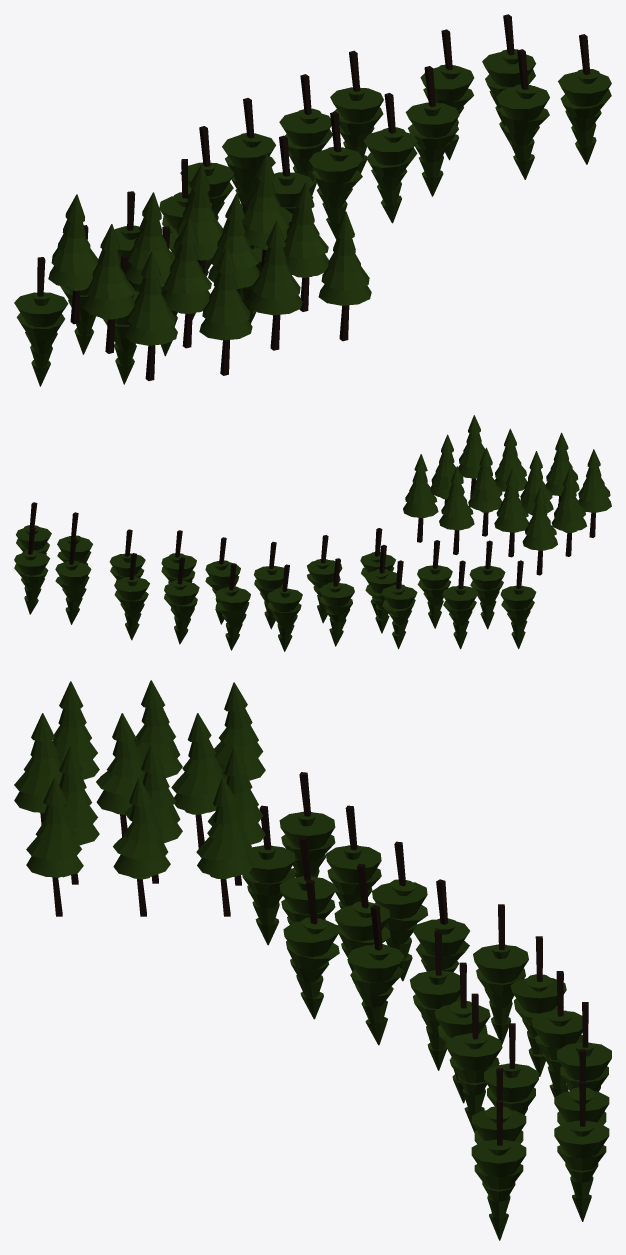
The model's file is Arboles.FBX.
3 renders of one model, top to bottom at view 1: azimuth 30°, elevation 25°; view 2: azimuth 150°, elevation 25°; view 3: azimuth 270°, elevation 25°, orthographic. The views are drawn at different scales.
Visible parts, largest first — view 1: Cylinder757, Cylinder758, Cylinder763, Cylinder759, Cylinder776, Cylinder777, Cylinder774, Cylinder750, Cylinder753, Cylinder764, Cylinder775, Cylinder773 (+17 smaller); view 2: Cylinder760, Cylinder761, Cylinder766, Cylinder754, Cylinder762, Cylinder755, Cylinder756, Cylinder778, Cylinder780, Cylinder767, Cylinder779, Cylinder768 (+21 smaller); view 3: Cylinder770, Cylinder749, Cylinder748, Cylinder750, Cylinder769, Cylinder754, Cylinder757, Cylinder779, Cylinder762, Cylinder772, Cylinder763, Cylinder767 (+21 smaller).
Boxes of the visible parts, x1,y1,x2,y2 form: Cylinder757: (558, 34, 611, 164); Cylinder758: (496, 49, 549, 179); Cylinder763: (363, 93, 417, 223); Cylinder759: (405, 66, 459, 196); Cylinder776: (83, 224, 134, 353); Cylinder777: (124, 251, 177, 380); Cylinder774: (199, 246, 252, 375); Cylinder750: (318, 211, 371, 341); Cylinder753: (249, 220, 302, 350); Cylinder764: (309, 111, 362, 239); Cylinder775: (48, 194, 97, 324); Cylinder773: (162, 218, 211, 348); Cylinder760: (164, 557, 199, 644); Cylinder761: (215, 563, 250, 650); Cylinder766: (319, 558, 354, 646); Cylinder754: (14, 527, 49, 614); Cylinder762: (267, 564, 302, 651); Cylinder755: (55, 537, 91, 624); Cylinder756: (114, 553, 149, 640); Cylinder778: (500, 560, 536, 649); Cylinder780: (442, 560, 478, 649); Cylinder767: (381, 560, 417, 649); Cylinder779: (469, 540, 505, 629); Cylinder768: (417, 540, 452, 628); Cylinder770: (283, 879, 339, 1019); Cylinder749: (113, 777, 170, 916); Cylinder748: (196, 777, 254, 916); Cylinder750: (26, 777, 83, 916); Cylinder769: (347, 905, 404, 1045); Cylinder754: (554, 1081, 609, 1221); Cylinder757: (471, 1100, 526, 1240); Cylinder779: (242, 805, 295, 945); Cylinder762: (473, 904, 528, 1044); Cylinder772: (171, 713, 226, 848); Cylinder763: (446, 993, 502, 1132); Cylinder767: (372, 841, 427, 981).
Bounding box in the file's own units: 199 × 60.37 × 142.
